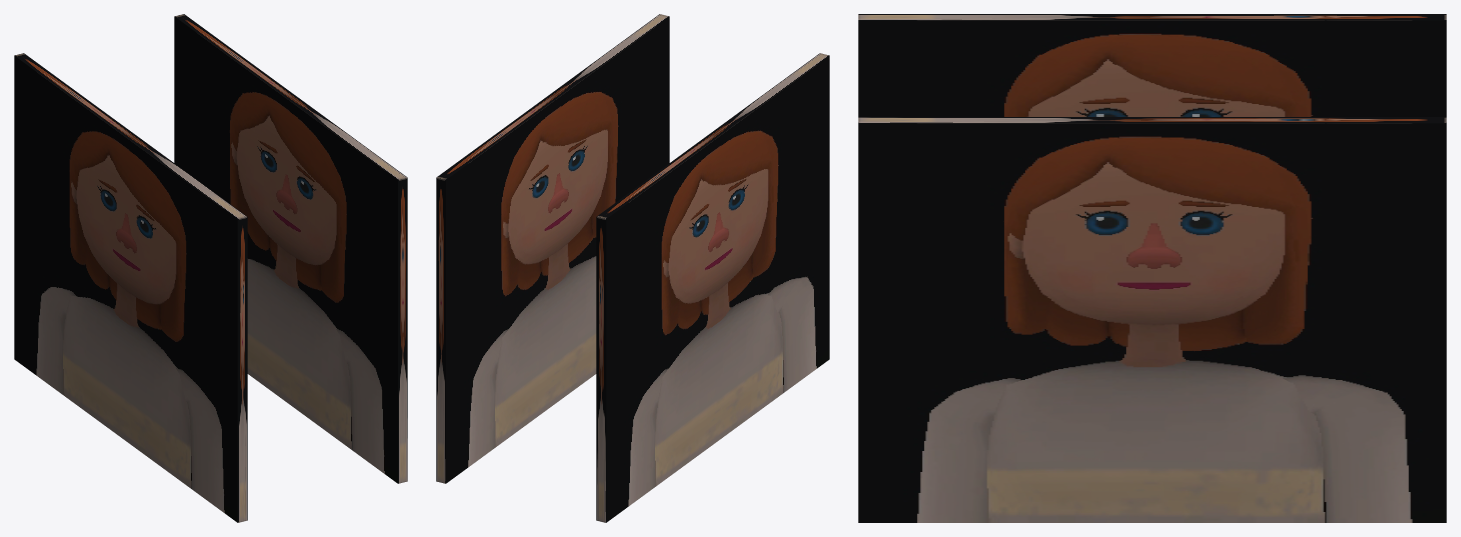
File: twentyone.obj
3 views of the same model, side by side, from view 1: azimuth 30°, elevation 25°; view 2: azimuth 150°, elevation 25°; view 3: azimuth 270°, elevation 25° (orthographic). The views are drawn at different scales.
Size of the model in its own units: 21.22 by 36.23 by 48.34.
1 material, 1 textured.
